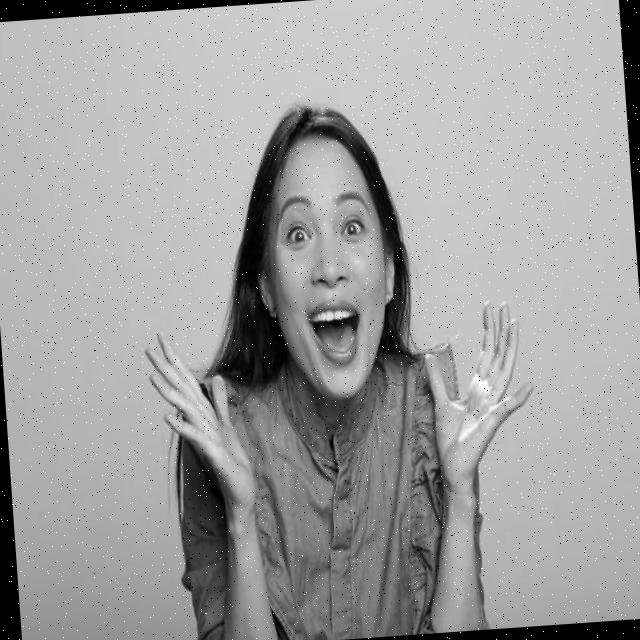Surprised: (262, 132, 394, 403)
